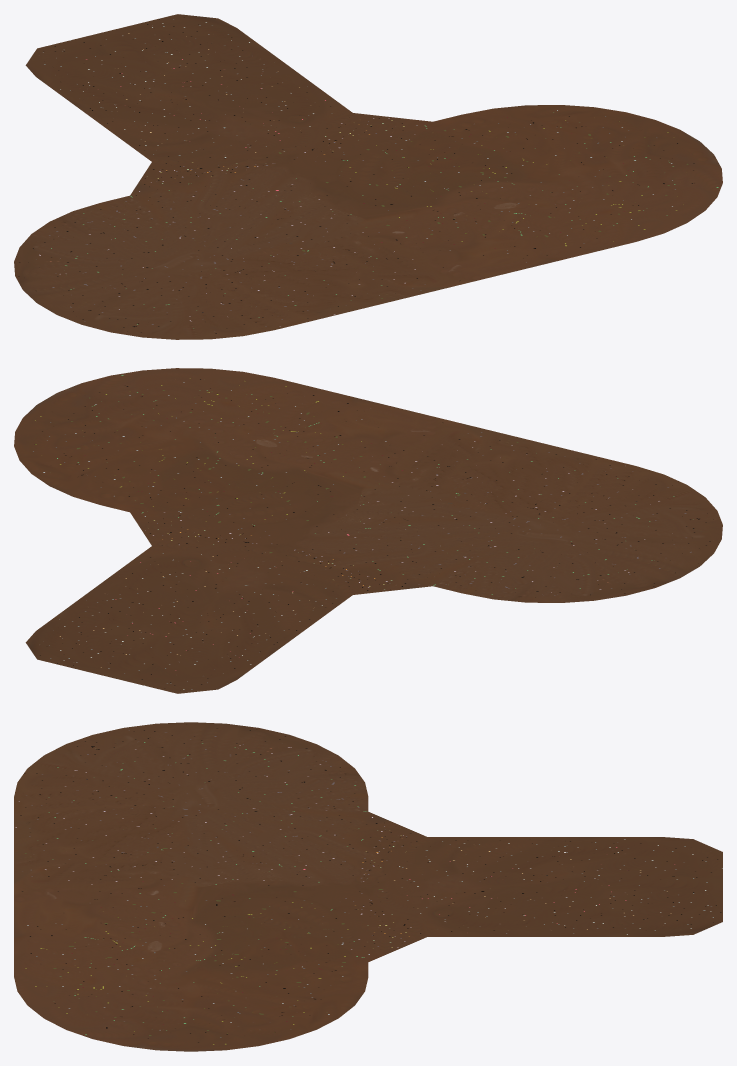
The model's file is Struc_Ground.fbx.
The picture shows the model from 3 angles, top to bottom: view 1: azimuth 30°, elevation 25°; view 2: azimuth 150°, elevation 25°; view 3: azimuth 270°, elevation 25°; orthographic projection.
Parts seen in each view (by area): view 1: Struc_Ground; view 2: Struc_Ground; view 3: Struc_Ground.
Part boxes in pixels (left/top/right/bottom): Struc_Ground: left=14, top=14, right=722, bottom=339; Struc_Ground: left=14, top=368, right=722, bottom=693; Struc_Ground: left=14, top=722, right=722, bottom=1051.
Size of the model in its own units: 6867 by 0 by 6243.
